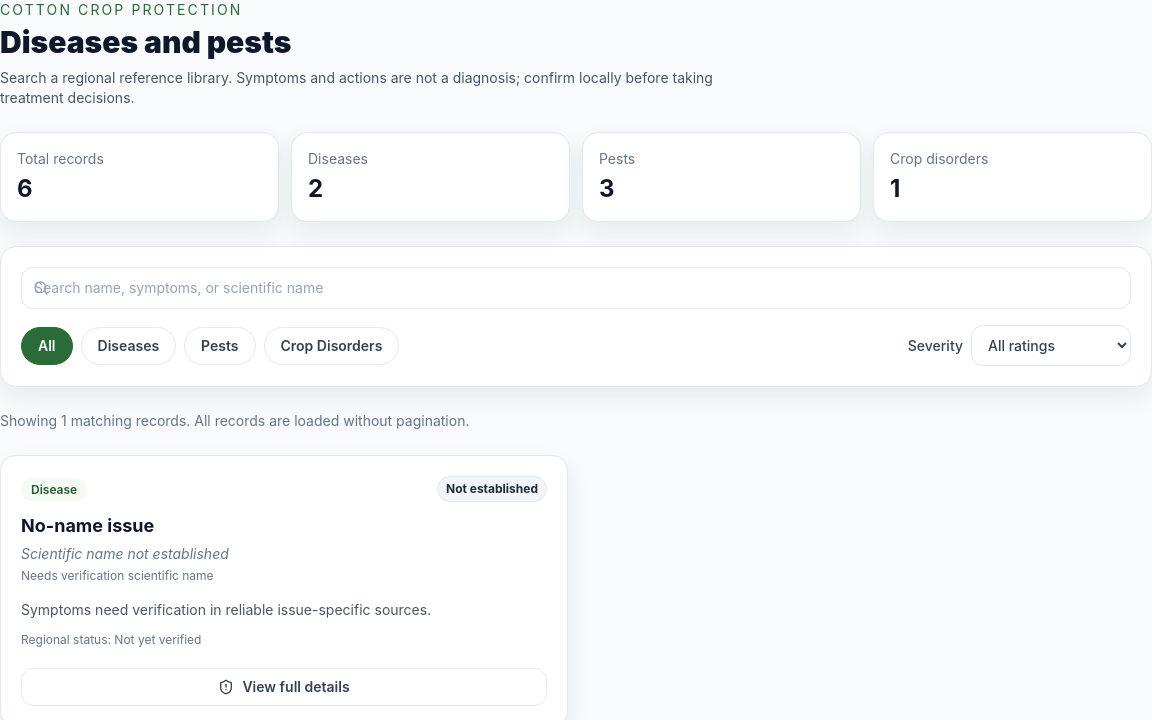
CottonIssueGuide › shows missing scientific name and empty symptoms without crashing
This screenshot has width=1152, height=720.
Expected: the heading "No-name issue" is shown, [21,515,154,536]
Expected: the text "Scientific name not established" is shown, [21,544,229,564]
Click the button "View full details" at (284,687), box [21,668,547,706]
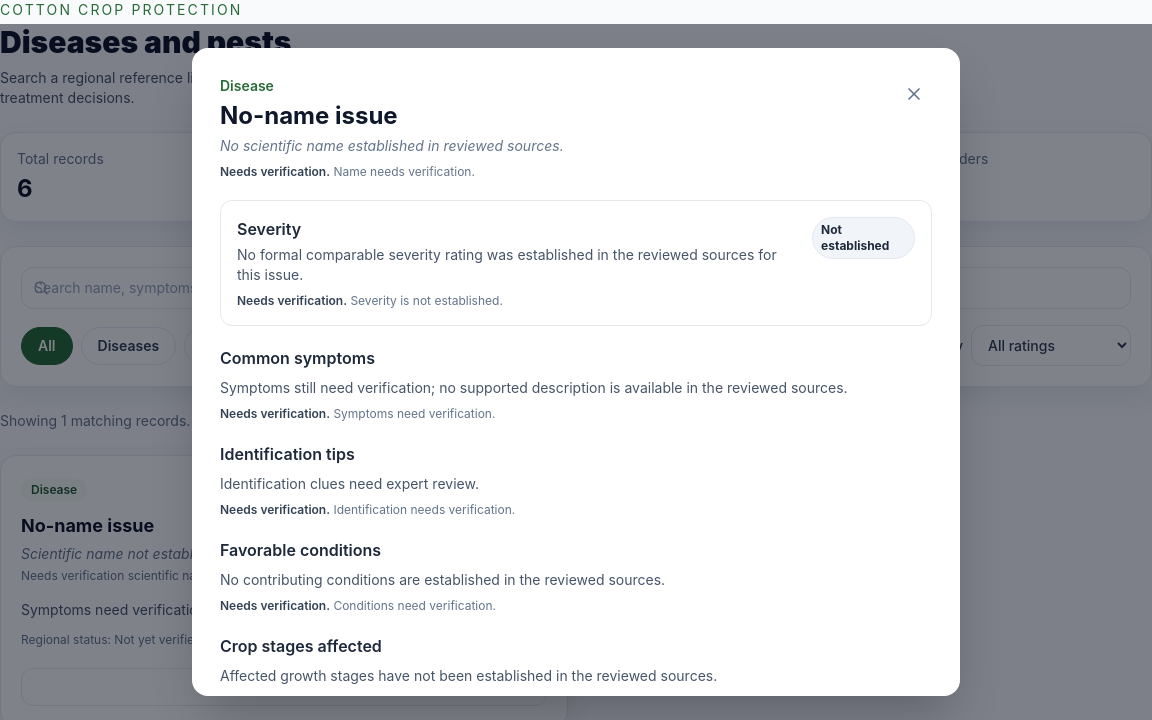
Now the text "No scientific name established in reviewed sources." is shown, box [220,136,564,156]
Now the text "Symptoms still need verification; no supported description is available in the reviewed sources." is shown, box [220,379,848,396]
